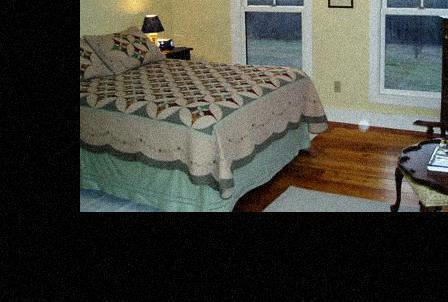Armario: (443, 20, 448, 124)
